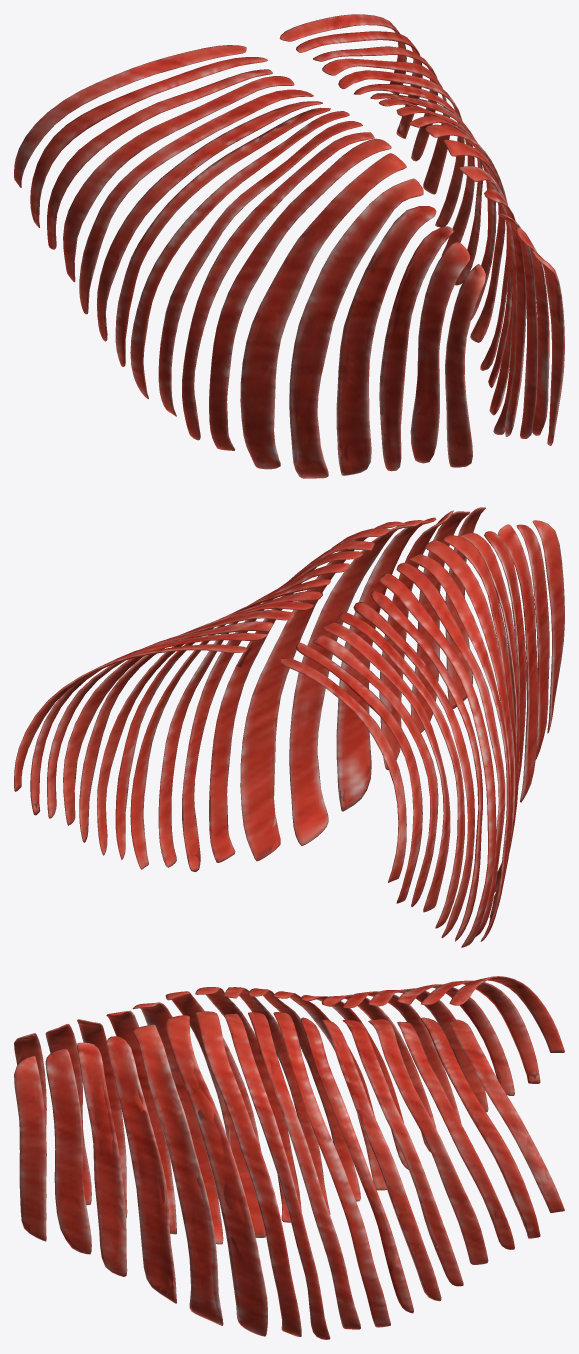
The model's file is Intercostales Externi.fbx.
3 renders of one model, top to bottom at view 1: azimuth 30°, elevation 25°; view 2: azimuth 150°, elevation 25°; view 3: azimuth 270°, elevation 25°, orthographic. The views are drawn at different scales.
Visible parts, largest first — view 1: Intercostales Externi, Intercostales Externi low; view 2: Intercostales Externi, Intercostales Externi low; view 3: Intercostales Externi, Intercostales Externi low.
Boxes of the visible parts, x1=… form: Intercostales Externi: x1=14, y1=14, x2=564, y2=478; Intercostales Externi low: x1=16, y1=14, x2=563, y2=478; Intercostales Externi: x1=14, y1=507, x2=564, y2=947; Intercostales Externi low: x1=14, y1=509, x2=563, y2=941; Intercostales Externi: x1=14, y1=976, x2=564, y2=1339; Intercostales Externi low: x1=14, y1=976, x2=564, y2=1338.
Size of the model in its own units: 57.09 by 46.73 by 81.77.
Materials: 1 (1 with a texture image).
